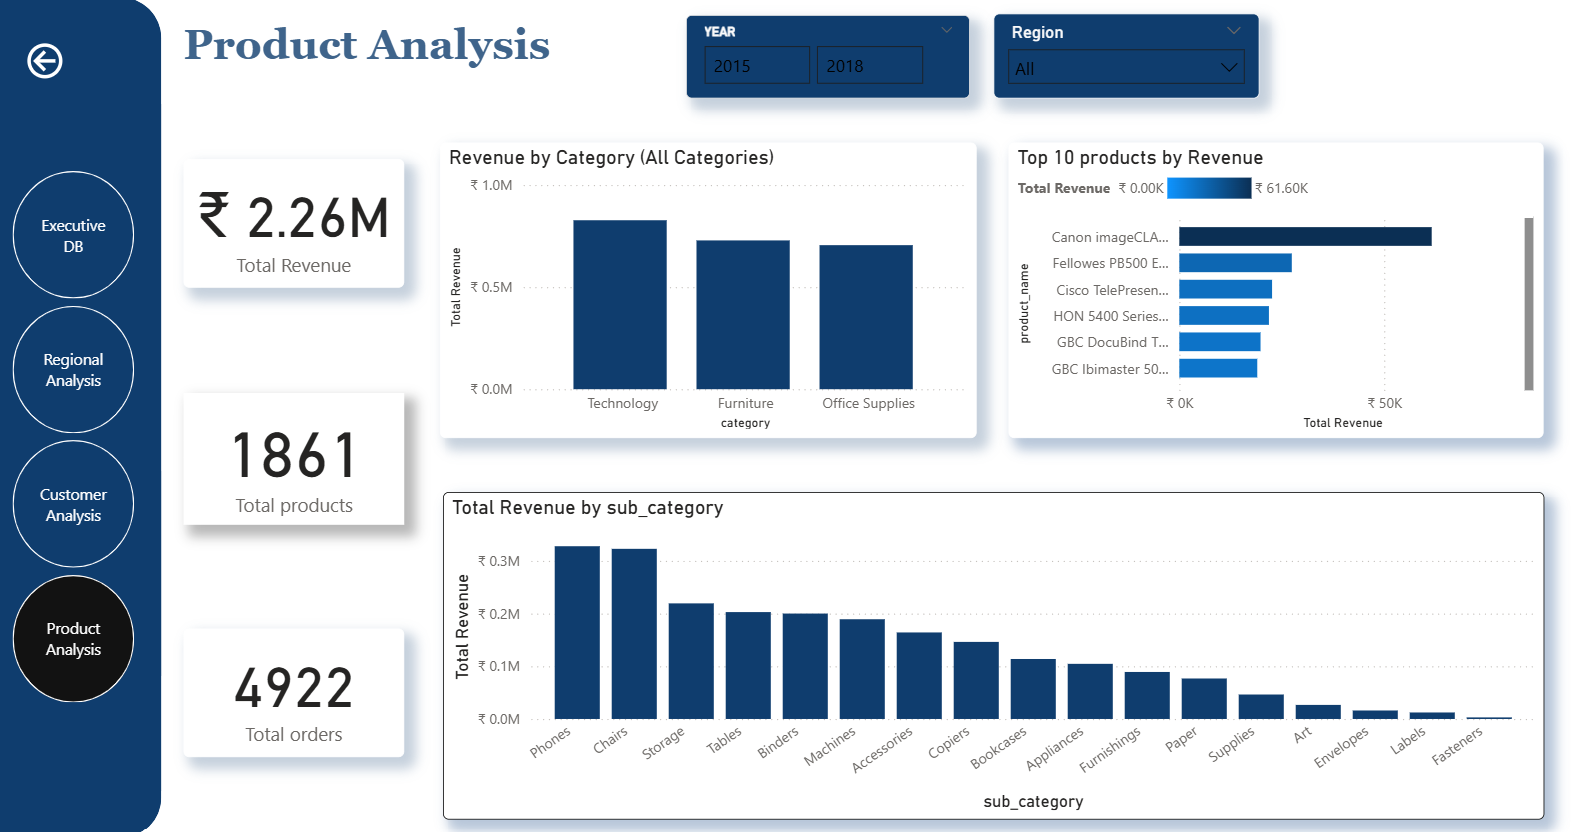

What the dashboard file says about the page in this screenshot:
{"tool":"powerbi","page":{"name":"Product Analysis","canvas":[1350,720],"ordinal":3},"visuals":[{"type":"columnChart","fields":{"Category":["superstore store.sub_category"],"Y":["superstore store.Total Revenue"]},"box":[381.4,422.9,941.4,280],"z":0},{"type":"clusteredBarChart","title":"Top 10 products by Revenue","fields":{"Category":["superstore store.product_name"],"Y":["superstore store.Total Revenue"]},"box":[865.7,124.3,457.1,252.9],"z":1000},{"type":"card","fields":{"Values":["superstore store.Total Revenue"]},"box":[160,138.6,188.6,110],"z":2000},{"type":"card","fields":{"Values":["superstore store.Total orders"]},"box":[160,540,188.6,110],"z":3000},{"type":"card","fields":{"Values":["superstore store.Total products"]},"box":[160,338.6,188.6,112.9],"z":4000},{"type":"shape","box":[160,15.7,362.9,50],"z":5000},{"type":"clusteredColumnChart","fields":{"Category":["superstore store.category"],"Y":["superstore store.Total Revenue"]},"box":[380,124.3,458.6,252.9],"z":6000},{"type":"shape","box":[0,0,141.4,678.6],"z":7000},{"type":"shape","box":[0,405.7,141.4,314.3],"z":8000},{"type":"pageNavigator","box":[14.3,148.6,104.3,457.1],"z":9000},{"type":"actionButton","box":[21.4,34.3,100,40],"z":10000},{"type":"slicer","fields":{"Values":["superstore store.region"]},"box":[852.9,14.3,227.1,72.9],"z":11000},{"type":"slicer","fields":{"Values":["DateTable.Year"]},"box":[590,15.7,242.9,71.4],"z":12000}]}

Visuals, with their boxes on the page's 1350x720 design canvas (x1, y1, x2, y2). These are canvas units, not pixel positions in the 1573x832 screenshot, which may show the page scaled, cropped or inside an application window:
columnChart - superstore store.sub_category x superstore store.Total Revenue: 381,423,1323,703
"Top 10 products by Revenue" clusteredBarChart: 866,124,1323,377
card - superstore store.Total Revenue: 160,139,349,249
card - superstore store.Total orders: 160,540,349,650
card - superstore store.Total products: 160,339,349,452
shape: 160,16,523,66
clusteredColumnChart - superstore store.category x superstore store.Total Revenue: 380,124,839,377
shape: 0,0,141,679
shape: 0,406,141,720
pageNavigator: 14,149,119,606
actionButton: 21,34,121,74
slicer - superstore store.region: 853,14,1080,87
slicer - DateTable.Year: 590,16,833,87
